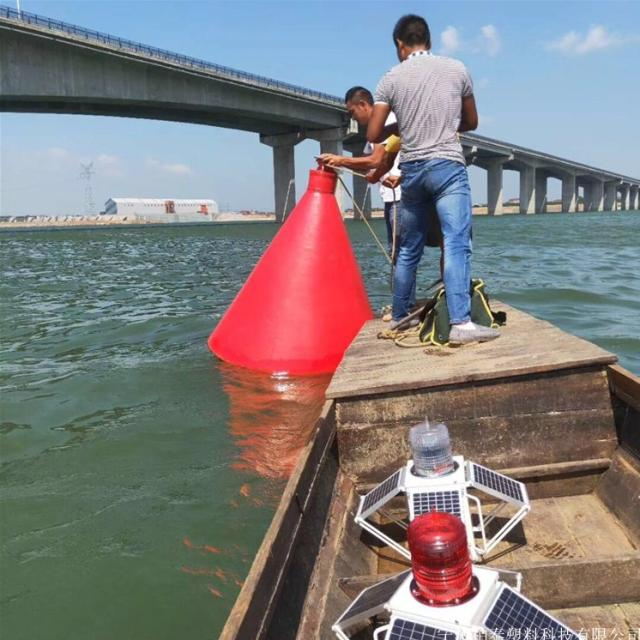buoy: (210, 159, 368, 370)
